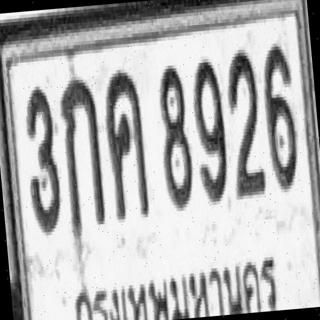A01: (58, 74, 107, 235)
A04: (101, 68, 150, 220)
N02: (224, 47, 266, 198)
N03: (21, 82, 63, 233)
N06: (260, 42, 301, 190)
N08: (154, 61, 195, 208)
N09: (189, 58, 230, 202)
P04: (66, 247, 284, 320)
